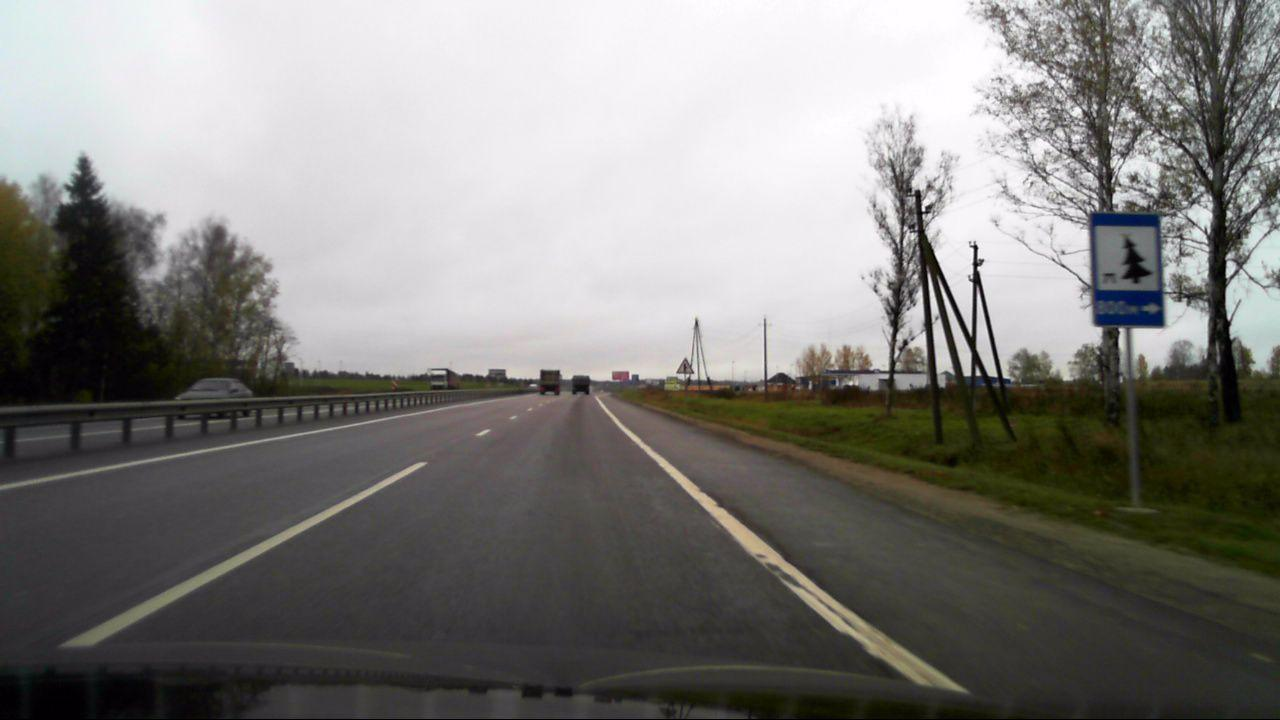2_3_6: (675, 358, 695, 375)
7_11: (1088, 213, 1165, 327)
